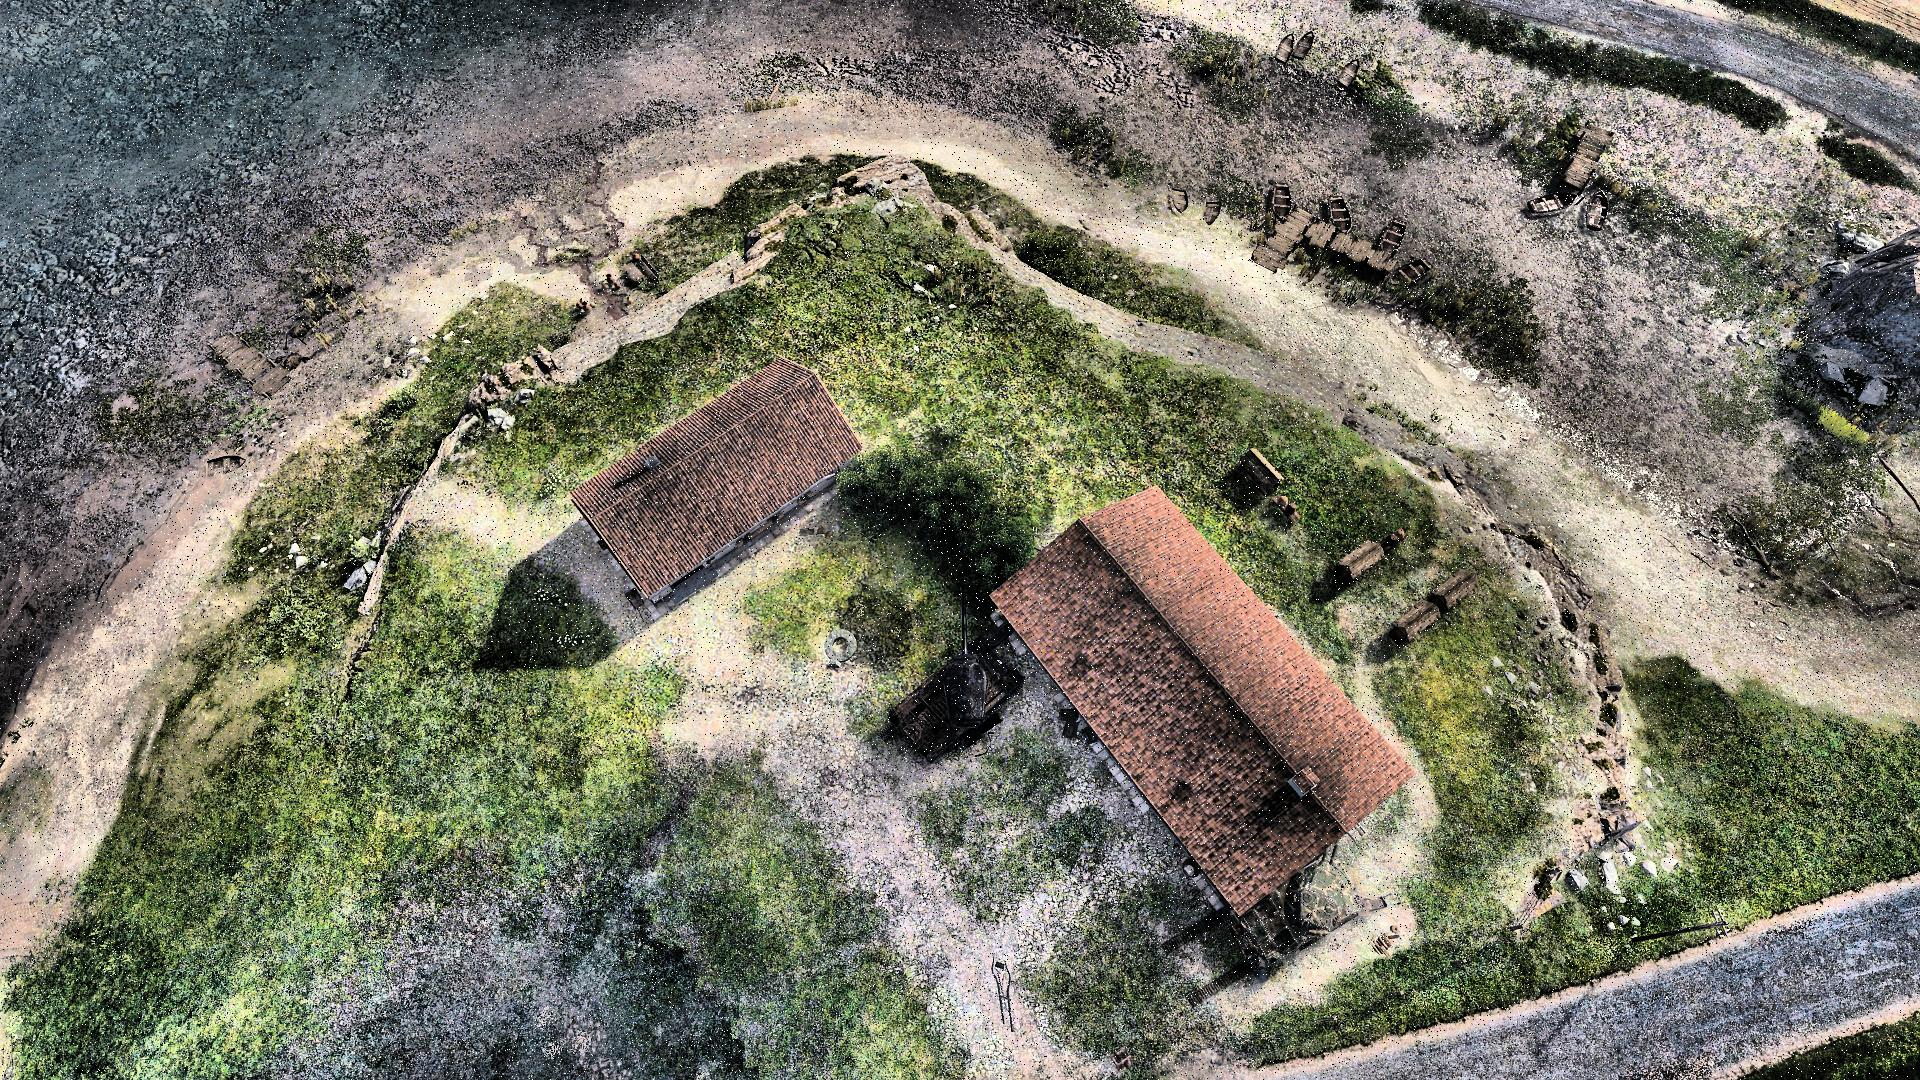military-vehicle: (887, 568, 1023, 764)
